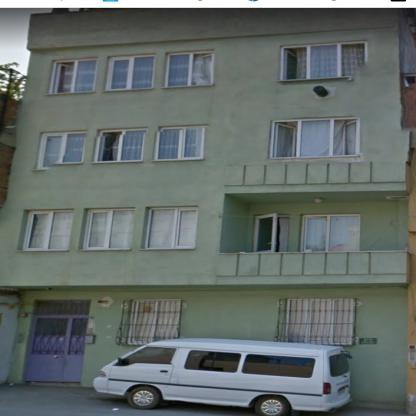door: (25, 315, 87, 382), (254, 214, 275, 252)
window: (268, 118, 358, 158), (280, 41, 366, 80), (286, 299, 351, 344), (128, 300, 180, 344), (300, 215, 359, 251), (145, 208, 197, 248), (83, 210, 134, 249), (23, 210, 72, 250), (36, 132, 85, 168), (95, 128, 145, 163), (165, 51, 213, 87), (155, 126, 204, 160), (107, 55, 154, 90), (49, 59, 96, 93), (34, 300, 89, 314)
